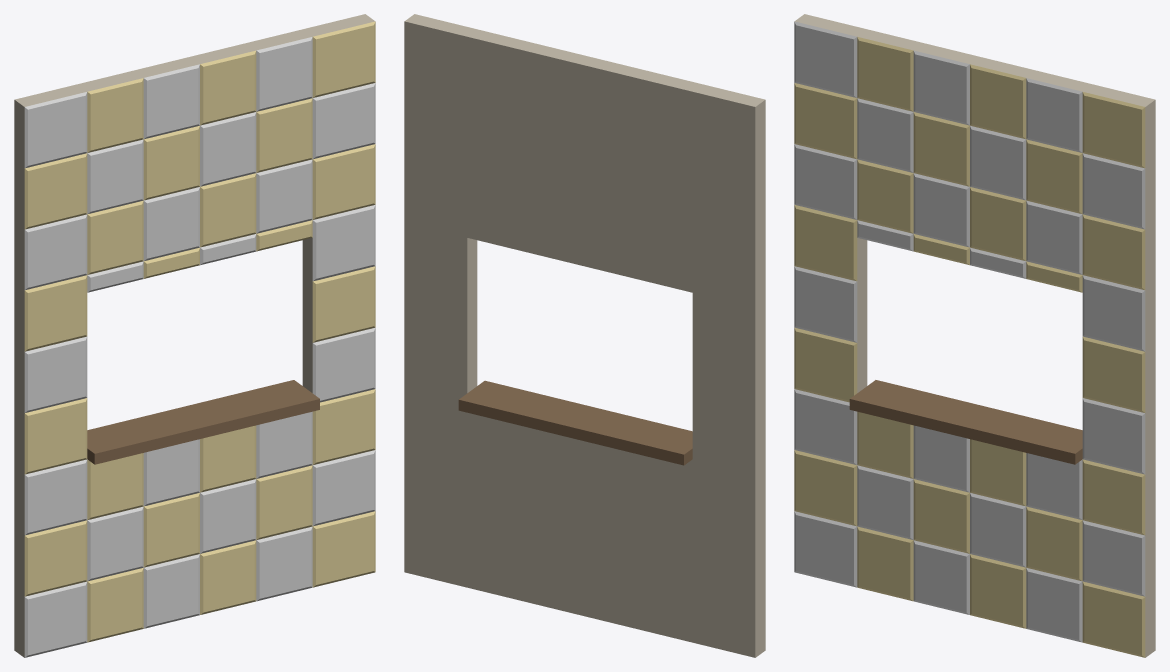
File: Mesh_WallCeramic_J3.fbx
3 renders of one model, left to right at view 1: azimuth 30°, elevation 25°; view 2: azimuth 150°, elevation 25°; view 3: azimuth 330°, elevation 25°, orthographic.
Visible parts, largest first — view 1: Mesh_WallCeramic_J3; view 2: Mesh_WallCeramic_J3; view 3: Mesh_WallCeramic_J3.
Boxes of the visible parts, x1=… form: Mesh_WallCeramic_J3: x1=14, y1=14, x2=375, y2=657; Mesh_WallCeramic_J3: x1=404, y1=14, x2=765, y2=657; Mesh_WallCeramic_J3: x1=794, y1=14, x2=1155, y2=657.
Bounding box in the file's own units: 2 × 3 × 0.2574.
